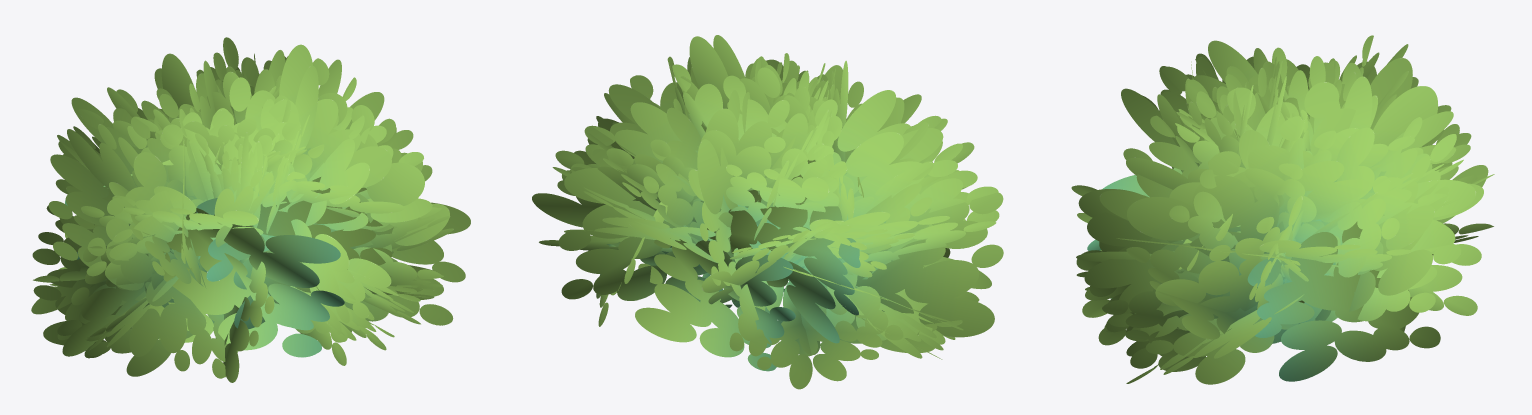
File: bush.fbx
The picture shows the model from 3 angles, left to right: view 1: azimuth 30°, elevation 25°; view 2: azimuth 150°, elevation 25°; view 3: azimuth 270°, elevation 25°; orthographic projection. The views are drawn at different scales.
Visible parts, largest first — view 1: bush_LOD1; view 2: bush_LOD1; view 3: bush_LOD1.
Boxes of the visible parts, x1,y1,x2,y2 form: bush_LOD1: [31, 37, 470, 382]; bush_LOD1: [532, 35, 1003, 389]; bush_LOD1: [1071, 35, 1494, 384].
Bounding box in the file's own units: 118 × 68.25 × 98.89.
Materials: 1 (1 with a texture image).
